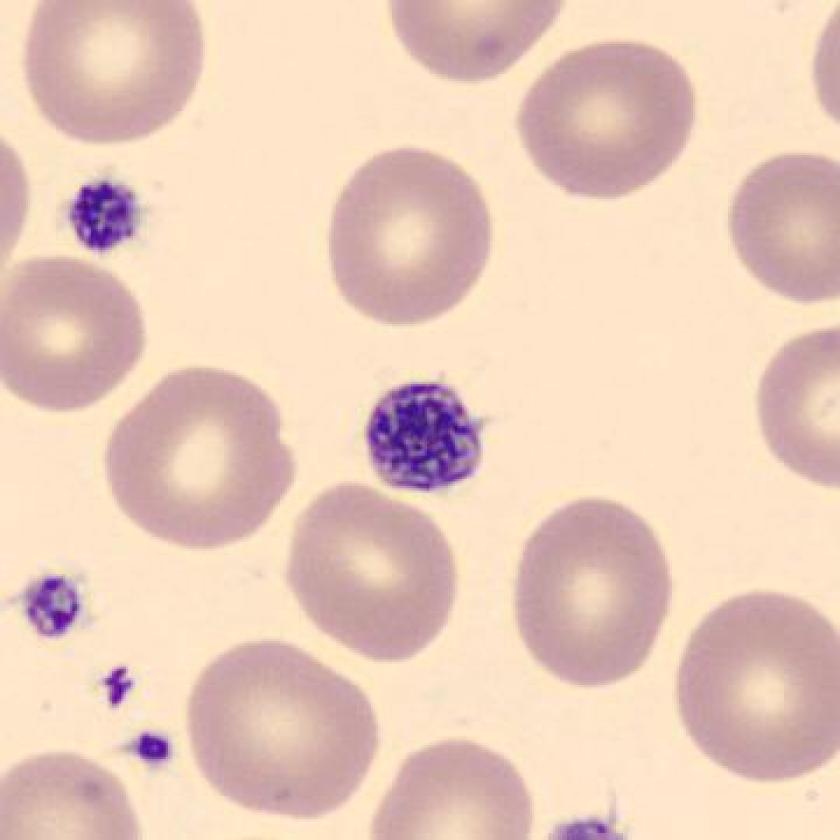platelets: (356, 367, 496, 506), (52, 163, 160, 267), (15, 554, 97, 654), (81, 652, 158, 726), (118, 728, 192, 781)
